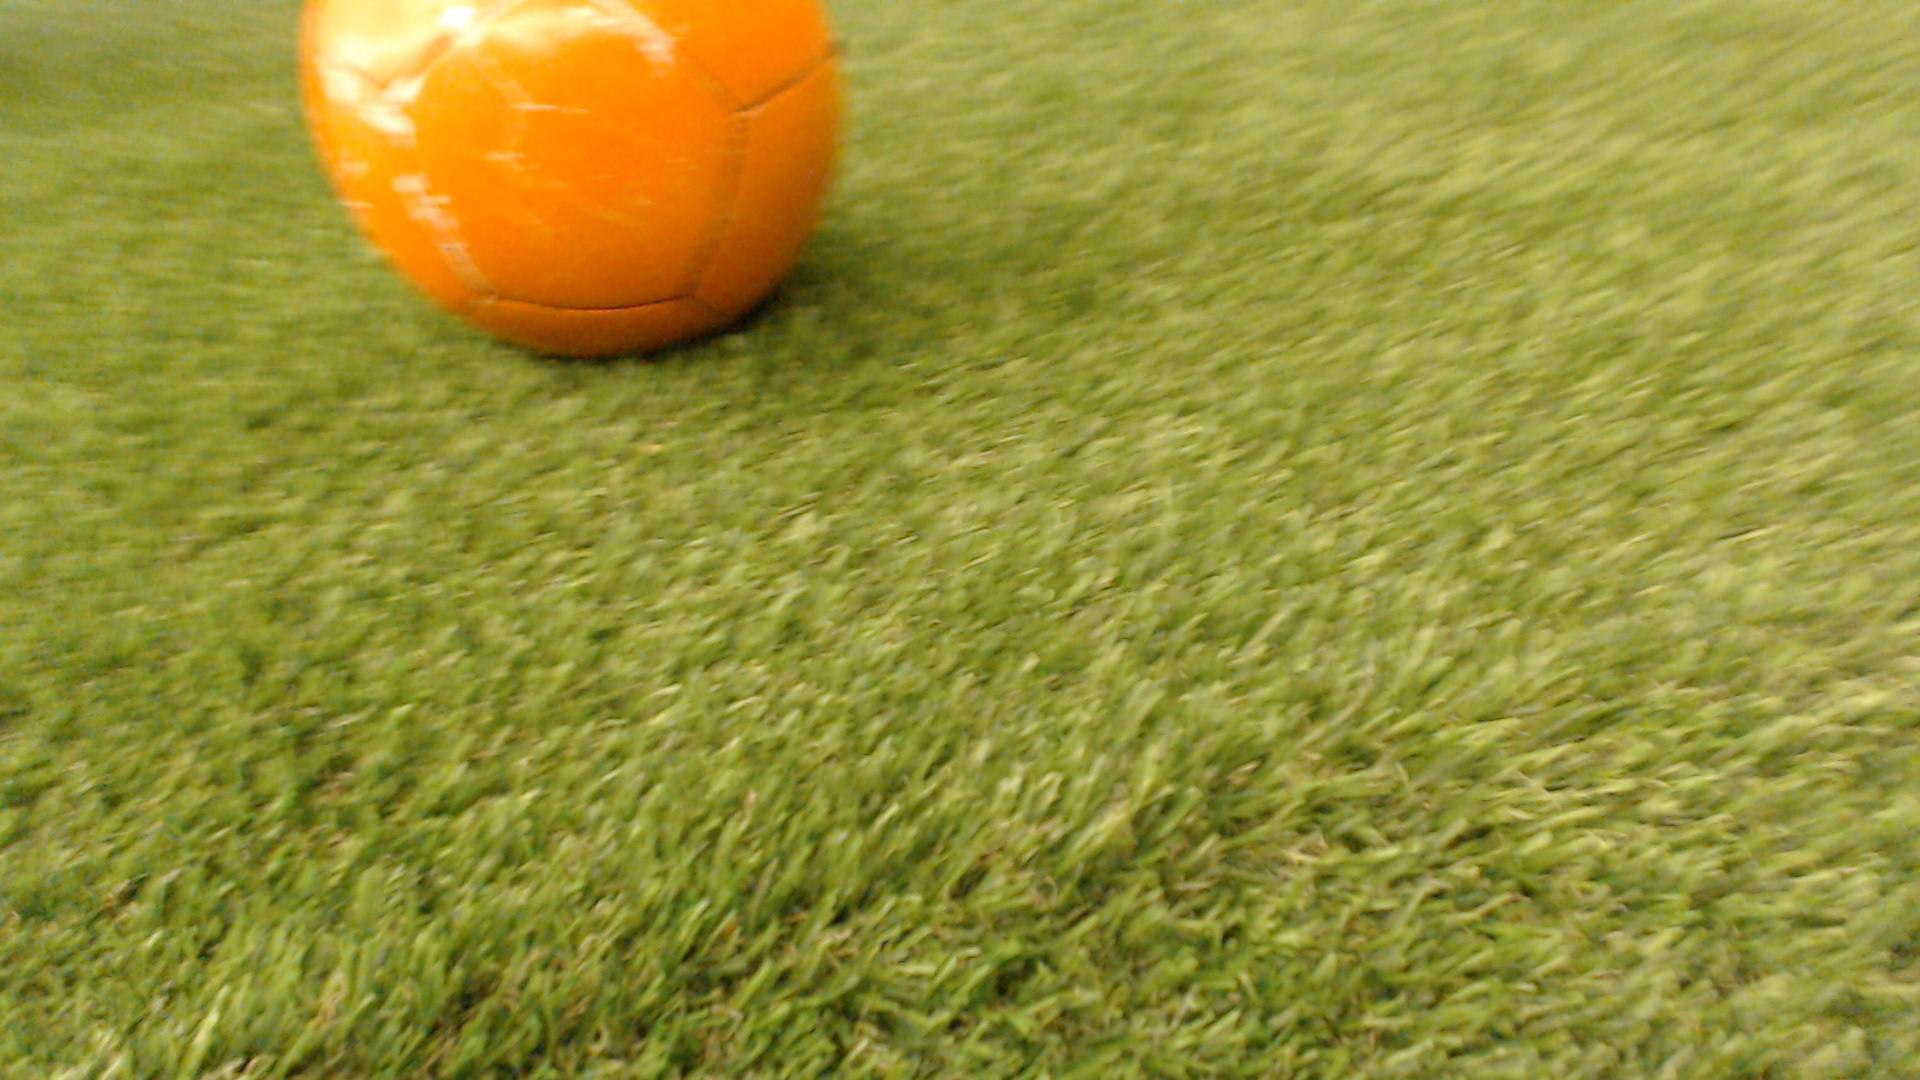bola: (287, 0, 862, 382)
